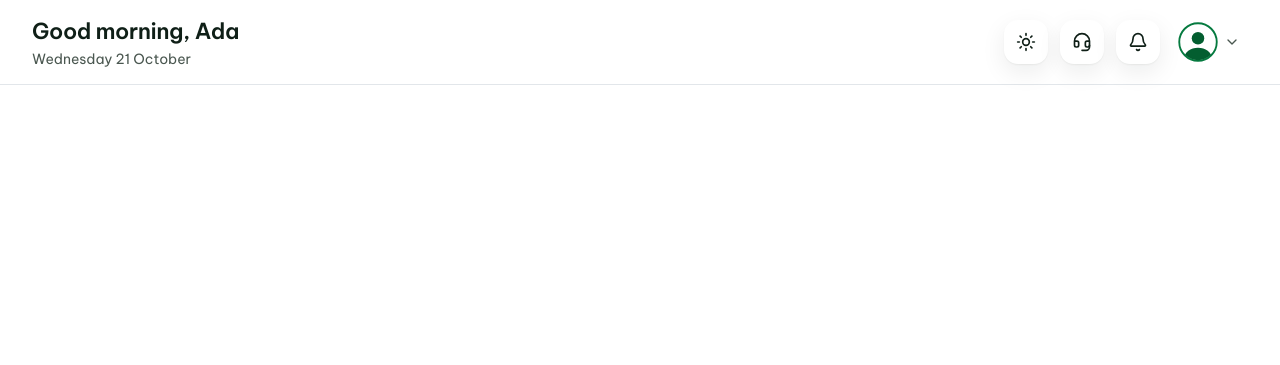
Test: the desk header › opens the account menu, moves through it with the arrows, and closes on Escape
Click the button named "Your account". click: point(1212, 42)
box: [1176,20,1248,64]
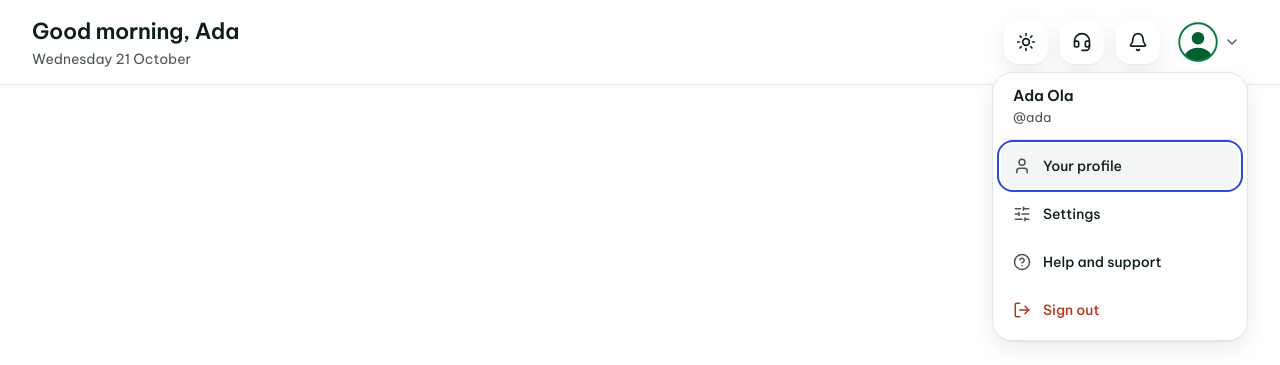
Check: the text "@ada" is shown, box [1013,108,1051,124]
Press Arrowdown
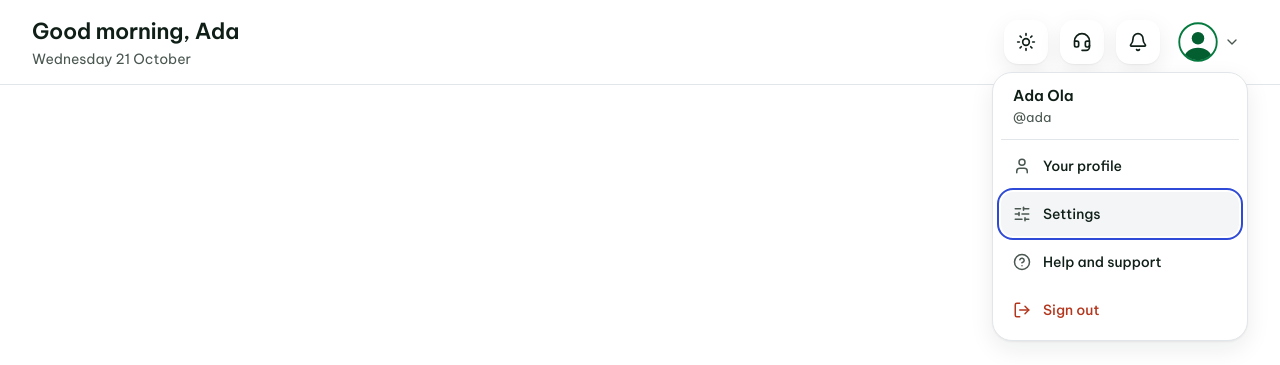
Check: the button "Sign out" is shown, box [1001,288,1239,332]
Press Escape
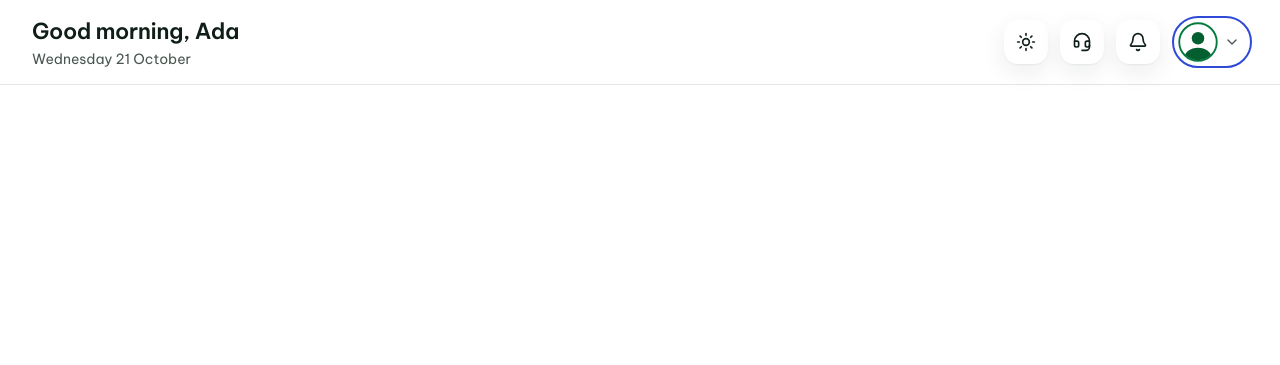
Check: the button named "Your account" is collapsed, box [1176,20,1248,64]
Check: the link "Your profile" is gone
